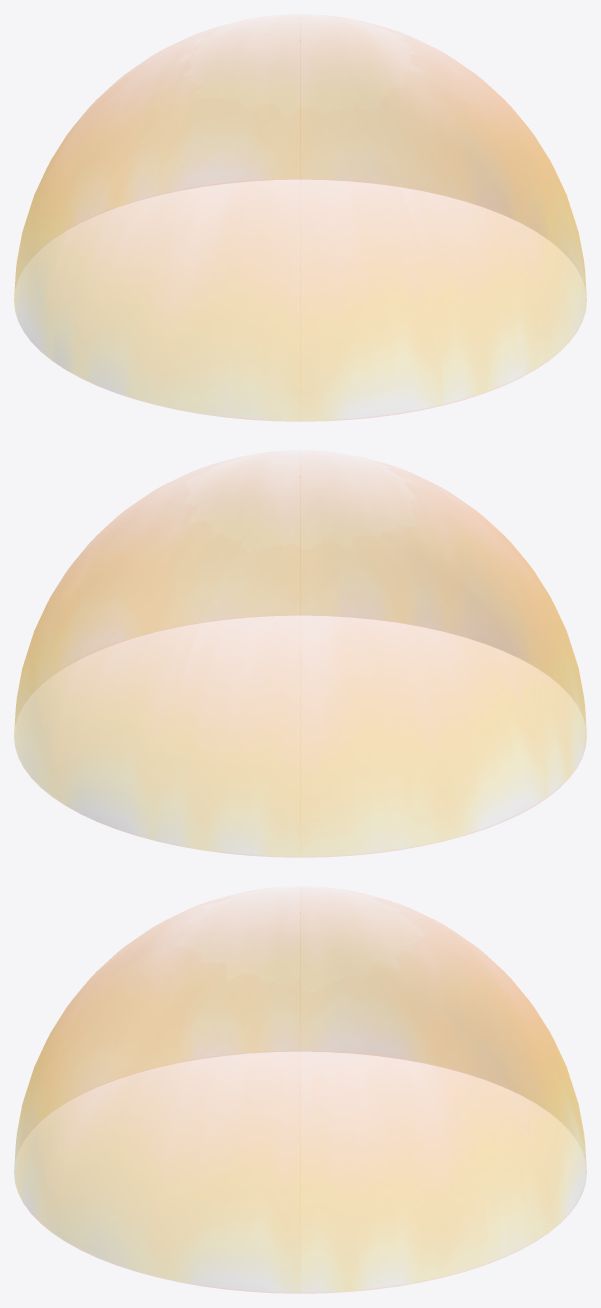
File: shock_dome_fire.glb
The picture shows the model from 3 angles, top to bottom: view 1: azimuth 30°, elevation 25°; view 2: azimuth 150°, elevation 25°; view 3: azimuth 270°, elevation 25°; orthographic projection.
Visible parts, largest first — view 1: dome; view 2: dome; view 3: dome.
Boxes of the visible parts, box(x1,y1,x2,y2) form: dome: box(14, 26, 586, 421); dome: box(14, 466, 586, 857); dome: box(14, 899, 586, 1293).
Size of the model in its own units: 2 by 1 by 2.
Materials: 1 (1 with a texture image).
